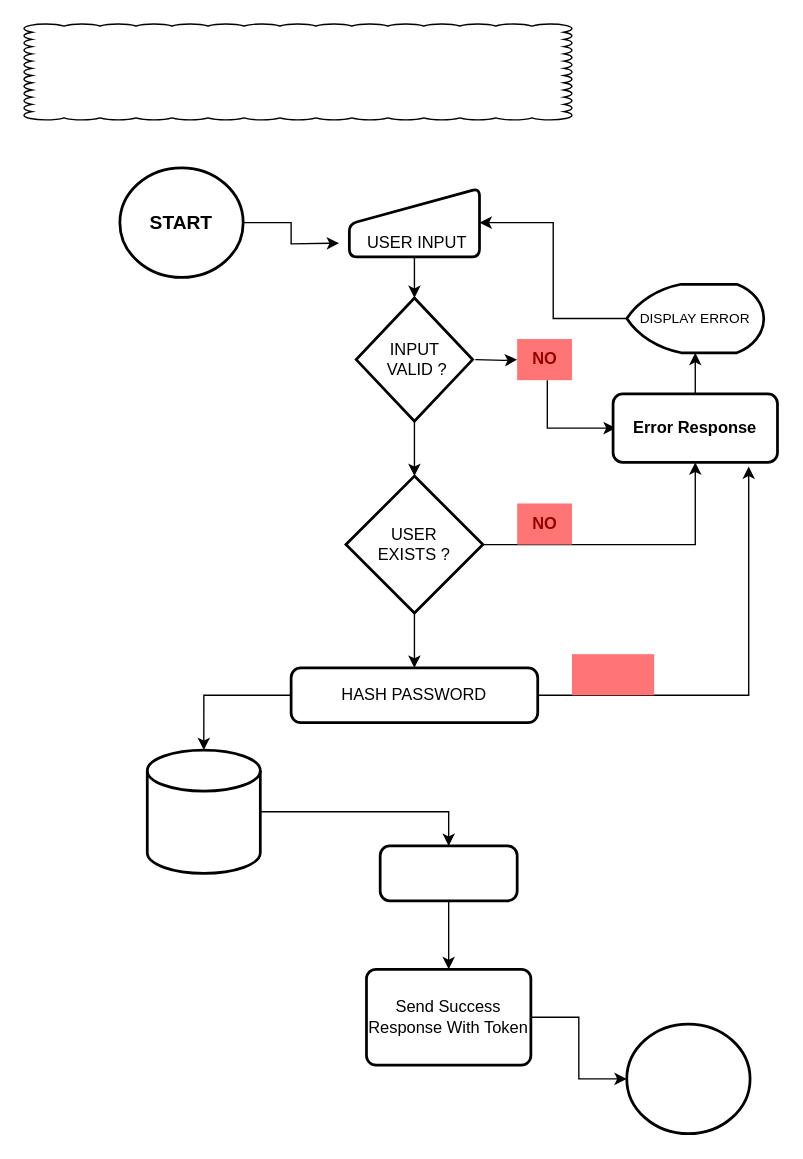
Some shapes in this 803 by 1159 pixel diagram are drawn without their labels. The shapes that lost their labels are listed below. From the top down, each one's centre as x and y in pixels, then its label:
[297,71]: USER REGISTRATION FLOW CHART
[612,674]: FALSE
[203,811]: Save User In Database
[448,872]: Generate Auth Token
[688,1078]: END
